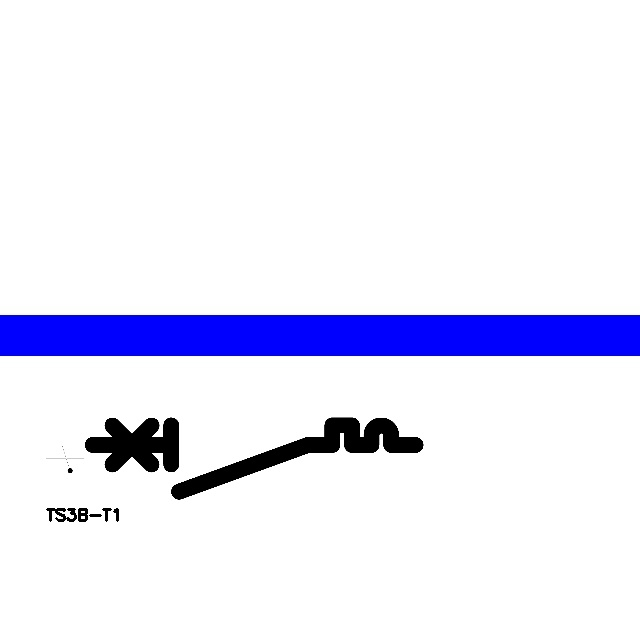interruptor_termomagnetico: (84, 417, 423, 500)
